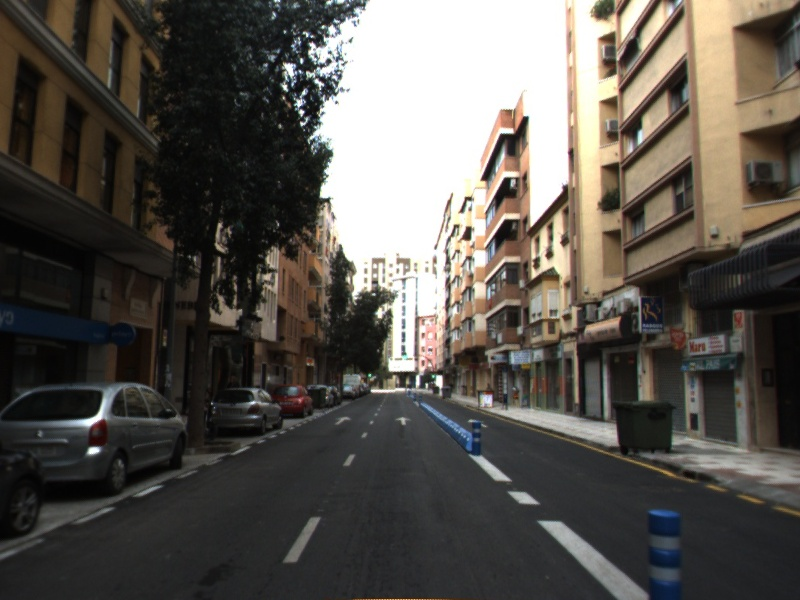STRAIGHT: (333, 415, 353, 426), (394, 415, 413, 426)
